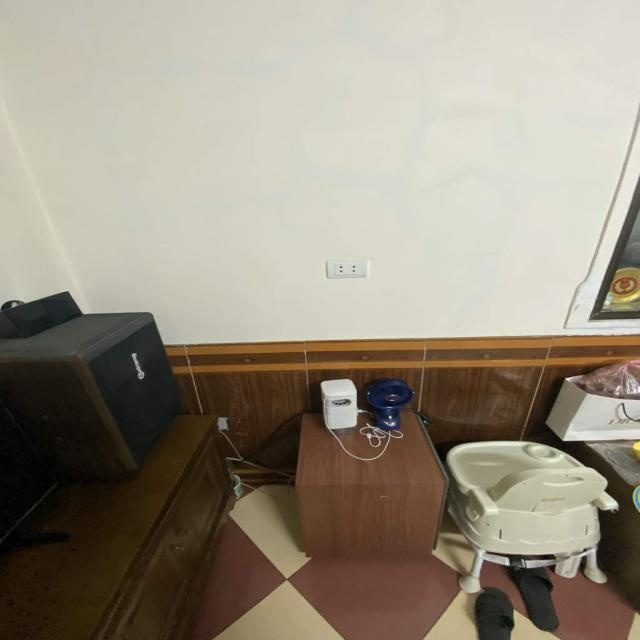outlet: (326, 259, 368, 278)
